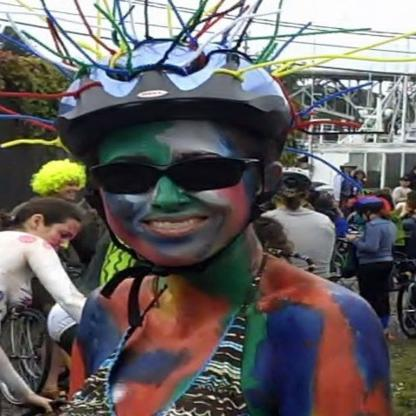Helmet: (62, 47, 283, 254)
